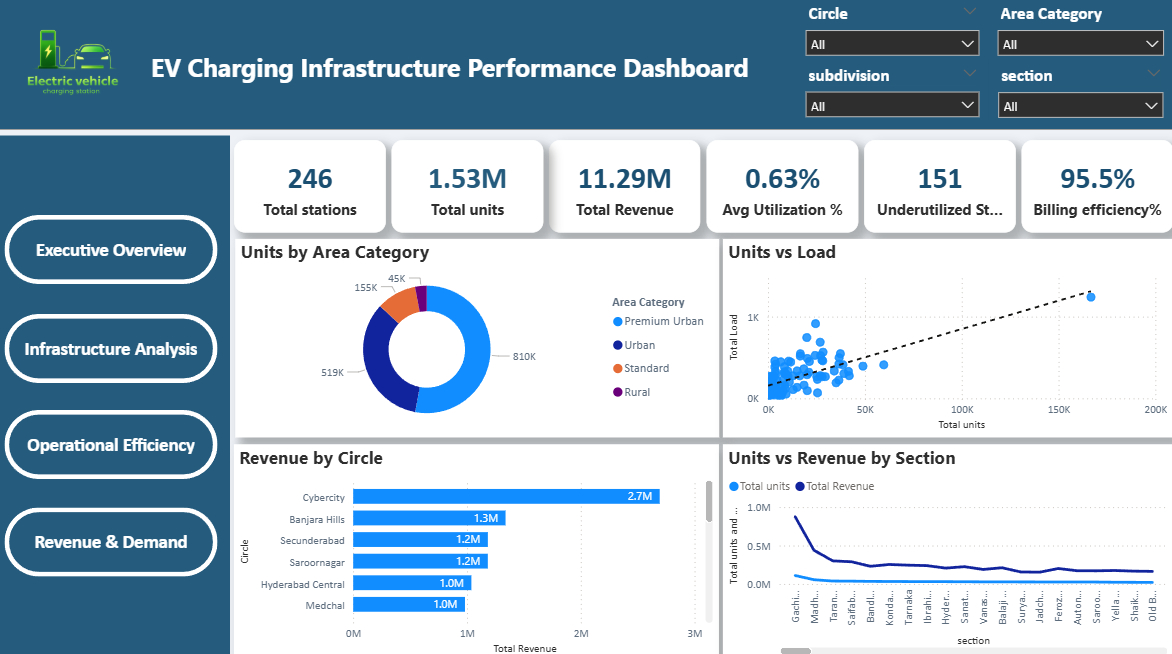

The page's visual inventory and layout, read from the dashboard file:
{"tool":"powerbi","page":{"name":"Dashboard","canvas":[1280,720],"ordinal":0},"visuals":[{"type":"textbox","box":[0,0,1280,147.3],"z":0},{"type":"textbox","box":[0,154,258,566],"z":1000},{"type":"slicer","fields":{"Values":["Tarrif_circle.Circle"]},"box":[869.5,4.9,207.3,66.4],"z":6000},{"type":"slicer","fields":{"Values":["EV_Charging_Consumption.subdivision"]},"box":[869.5,71.2,207.3,64.8],"z":7000},{"type":"slicer","fields":{"Values":["Tarrif_circle.Area Category"]},"box":[1076.8,4.9,199.2,66.4],"z":8000},{"type":"slicer","fields":{"Values":["EV_Charging_Consumption.section"]},"box":[1076.8,71.2,199.2,64.8],"z":9000},{"type":"actionButton","box":[14.6,239.6,229.9,74.5],"z":10000},{"type":"actionButton","box":[14.6,346.5,229.9,74.5],"z":11000},{"type":"actionButton","box":[14.6,450.1,229.9,74.5],"z":12000},{"type":"actionButton","box":[14.6,555.4,229.9,74.5],"z":13000},{"type":"card","fields":{"Values":["EV_Charging_Consumption.Total Revenue"]},"box":[602.4,158.7,163.5,100],"z":14000},{"type":"card","fields":{"Values":["EV_Charging_Consumption.Avg Utilization %"]},"box":[772.3,158,164,100],"z":15000},{"type":"card","fields":{"Values":["EV_Charging_Consumption.Underutilized Stations Count"]},"box":[942.1,158,164,100],"z":16000},{"type":"card","fields":{"Values":["EV_Charging_Consumption.Billing efficiency%"]},"box":[1112,158,164,100],"z":17000},{"type":"card","fields":{"Values":["EV_Charging_Consumption.Total stations"]},"box":[262.3,158,164,100],"z":18000},{"type":"card","fields":{"Values":["EV_Charging_Consumption.Total units"]},"box":[432.3,158,164,100],"z":19000},{"type":"image","box":[14.6,8.1,149,150.6],"z":20000},{"type":"donutChart","title":"Units by Area Category","fields":{"Y":["Sum(EV_Charging_Consumption.units)"],"Category":["Tarrif_circle.Area Category"]},"box":[263.9,265.6,522,213.7],"z":20001},{"type":"scatterChart","title":"Units vs Load","fields":{"X":["EV_Charging_Consumption.Total units"],"Y":["EV_Charging_Consumption.Total Load"],"Category":["EV_Charging_Consumption.subdivision"]},"box":[790.2,265.6,485.8,213.7],"z":20002},{"type":"clusteredBarChart","title":"Revenue by Circle","fields":{"Y":["EV_Charging_Consumption.Total Revenue"],"Category":["Tarrif_circle.Circle"]},"box":[262.3,486.8,523,233.2],"z":20003},{"type":"lineChart","title":"Units vs Revenue by Section","fields":{"Y":["EV_Charging_Consumption.Total units","EV_Charging_Consumption.Total Revenue"],"Category":["EV_Charging_Consumption.section"]},"box":[790.2,486.8,485.8,233.2],"z":20004}]}

Visuals, with their boxes in screenshot pixels (x1, y1, x2, y2), scaled from the page's 1280x720 canvas onto the 1172x654 screenshot:
textbox: crop(0, 0, 1171, 134)
textbox: crop(0, 140, 236, 653)
slicer - Tarrif_circle.Circle: crop(796, 4, 986, 65)
slicer - EV_Charging_Consumption.subdivision: crop(796, 65, 986, 124)
slicer - Tarrif_circle.Area Category: crop(986, 4, 1168, 65)
slicer - EV_Charging_Consumption.section: crop(986, 65, 1168, 124)
actionButton: crop(13, 218, 224, 285)
actionButton: crop(13, 315, 224, 382)
actionButton: crop(13, 409, 224, 477)
actionButton: crop(13, 504, 224, 572)
card - EV_Charging_Consumption.Total Revenue: crop(552, 144, 701, 235)
card - EV_Charging_Consumption.Avg Utilization %: crop(707, 144, 857, 234)
card - EV_Charging_Consumption.Underutilized Stations Count: crop(863, 144, 1013, 234)
card - EV_Charging_Consumption.Billing efficiency%: crop(1018, 144, 1168, 234)
card - EV_Charging_Consumption.Total stations: crop(240, 144, 390, 234)
card - EV_Charging_Consumption.Total units: crop(396, 144, 546, 234)
image: crop(13, 7, 150, 144)
"Units by Area Category" donutChart: crop(242, 241, 720, 435)
"Units vs Load" scatterChart: crop(724, 241, 1168, 435)
"Revenue by Circle" clusteredBarChart: crop(240, 442, 719, 653)
"Units vs Revenue by Section" lineChart: crop(724, 442, 1168, 653)
